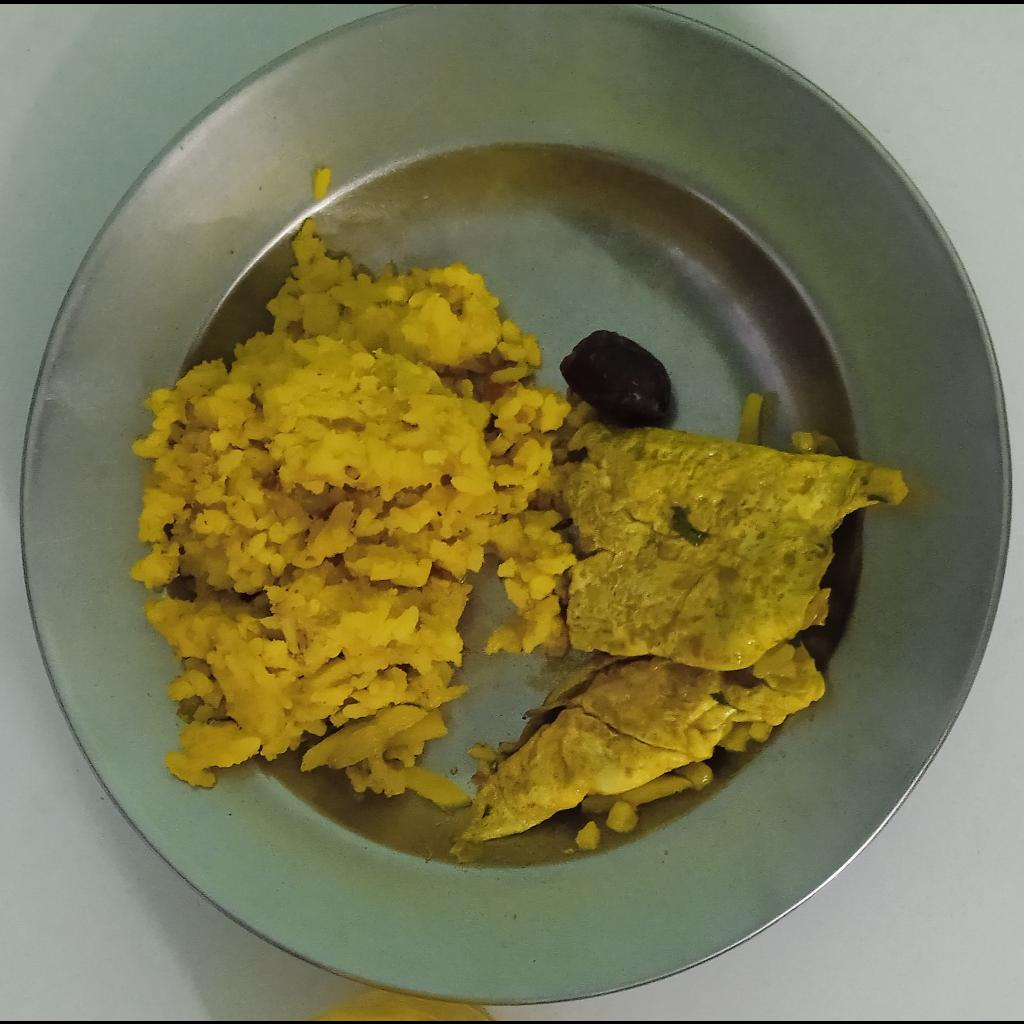dates: (558, 328, 672, 427)
egg-poached: (452, 419, 911, 853)
khichuri: (129, 217, 601, 807)
